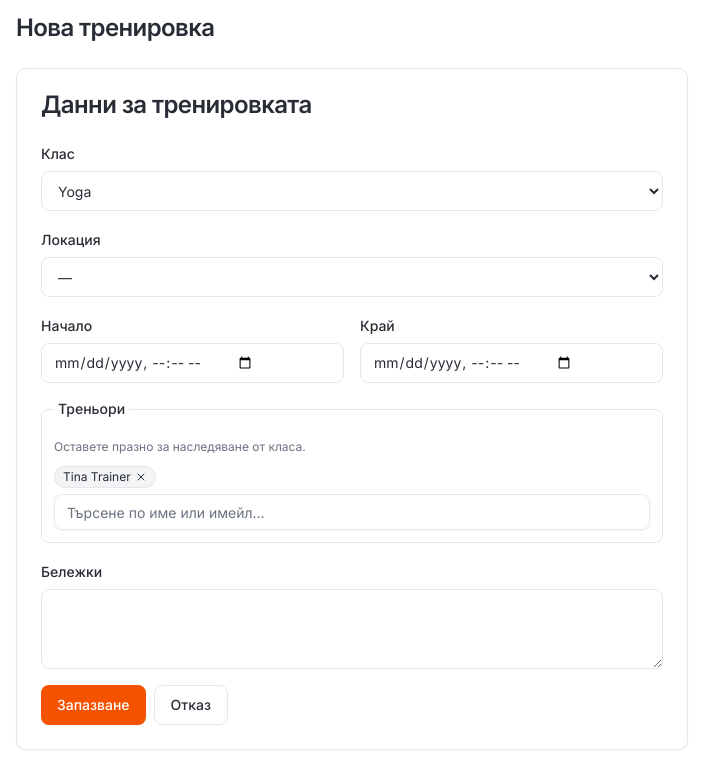
Test: NewSessionPage — ?classId= prefill › clears the trainer chips when the class selection is cleared
expect the button "Tina Trainer" is shown: met, box 54,466 -> 156,488
Select "—" in the dropdown with id "classId". click: (352,191)
box: 41,171 -> 663,211
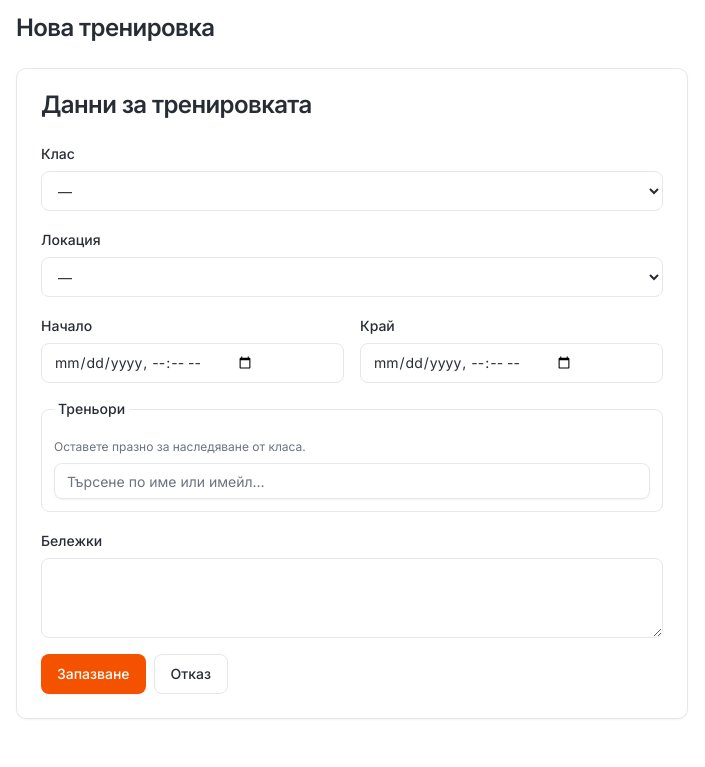
expect the button "Tina Trainer" is gone: met
